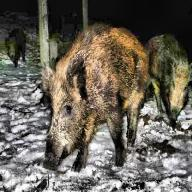boar: (29, 13, 134, 188), (137, 29, 192, 127)
